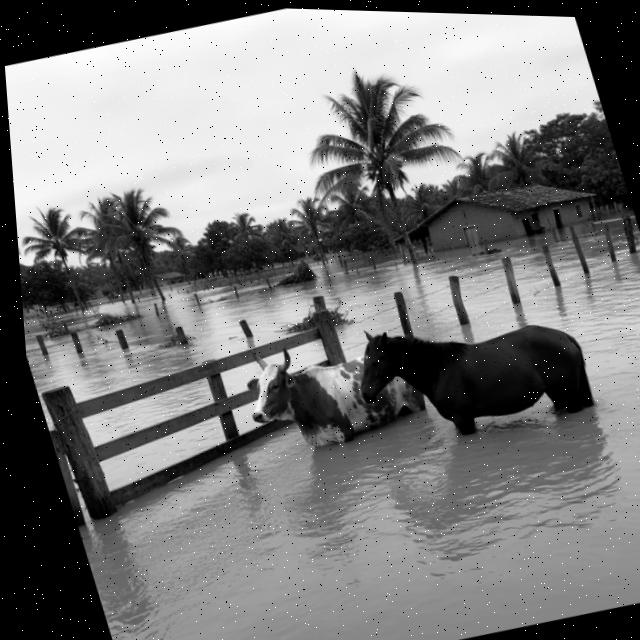cow: (224, 309, 444, 477)
horse: (335, 279, 619, 467)
